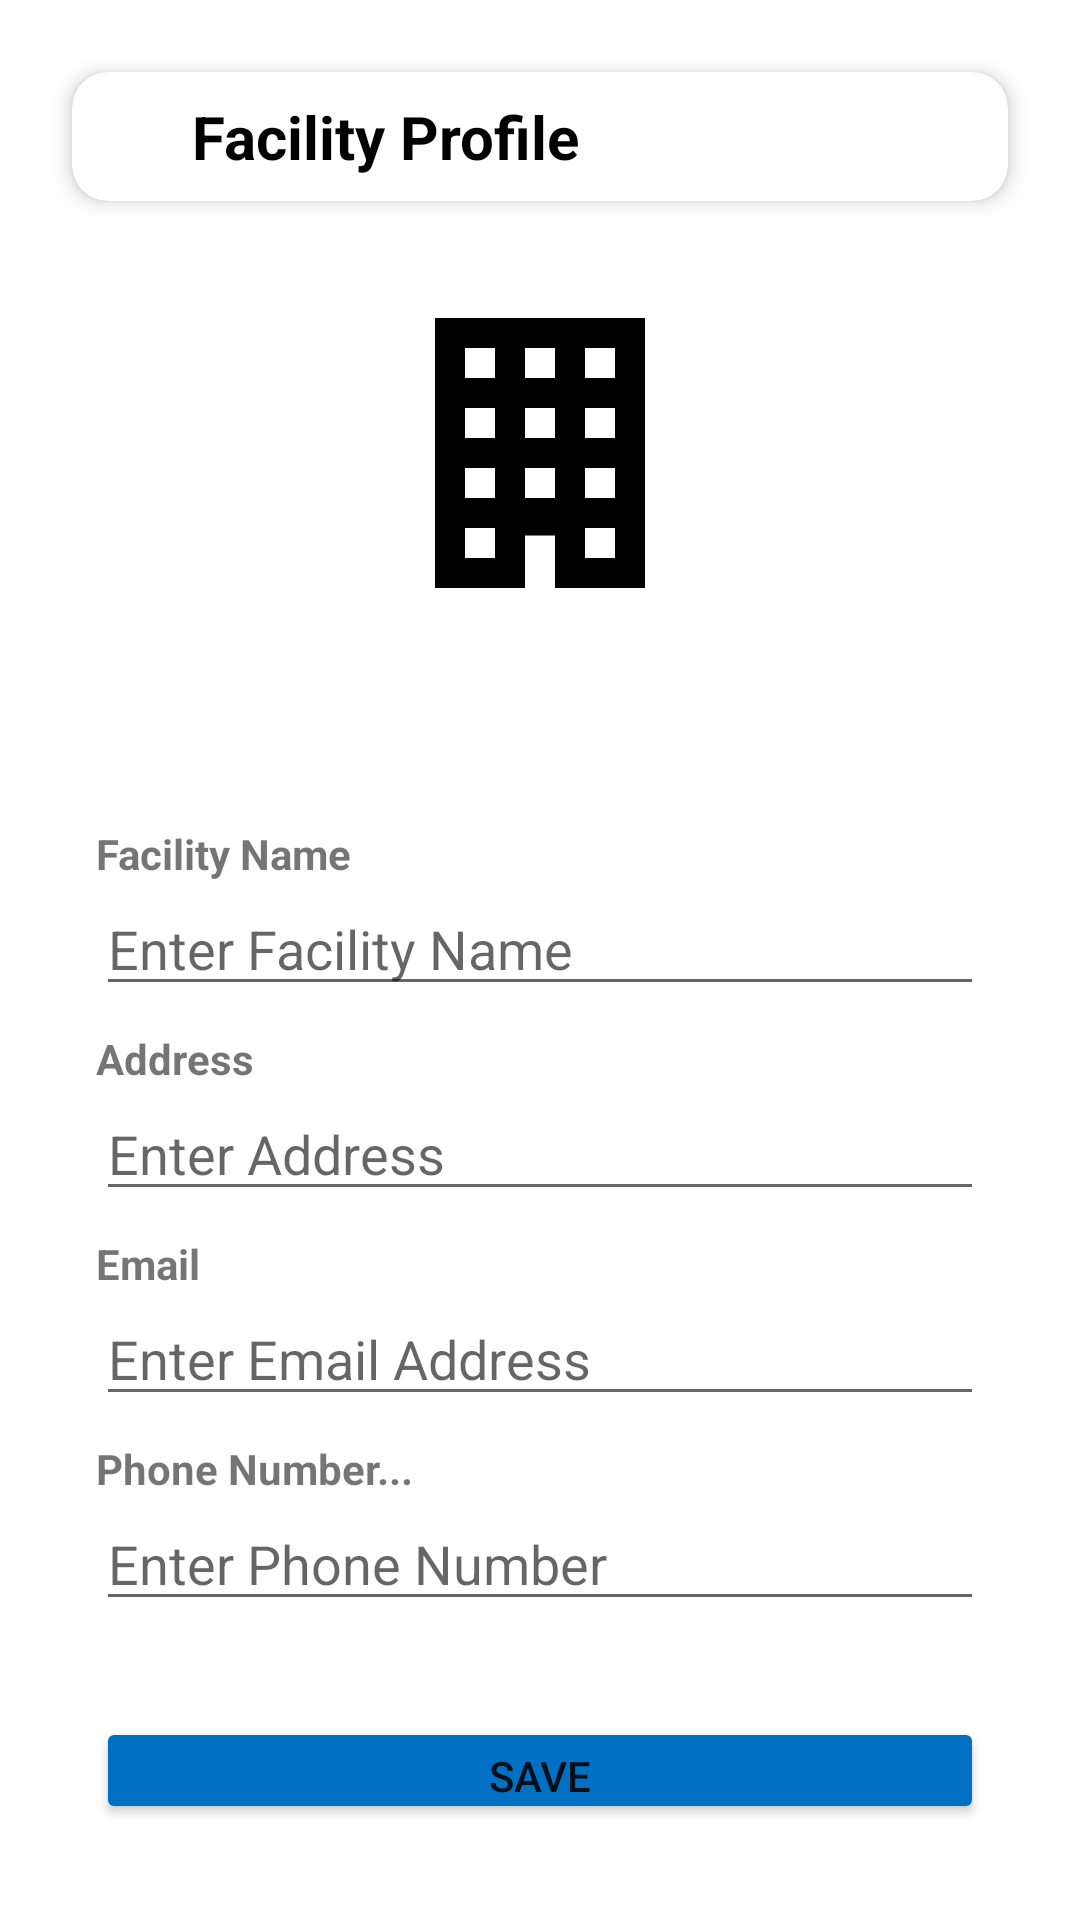

Named icons in this screenshot (1080x1920) and their bounding boxes, (x1, y1, x2, y2):
building: (435, 318, 645, 588)
